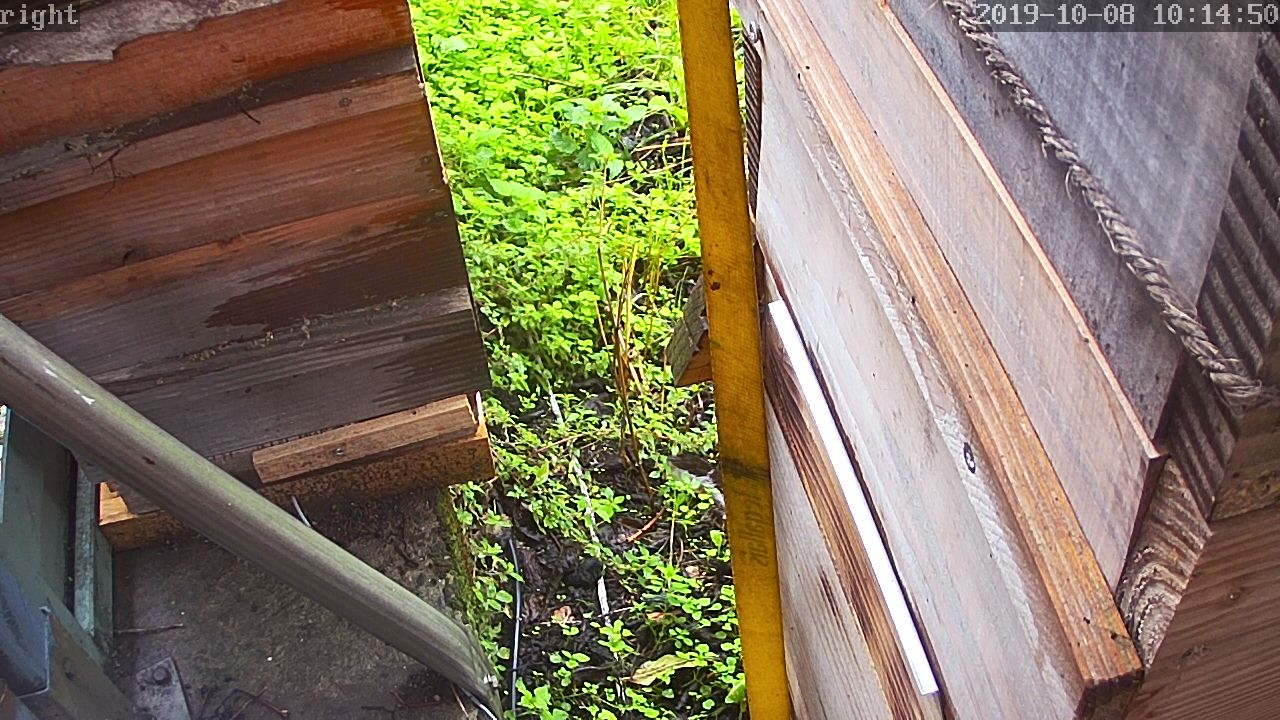hornet: (532, 548, 595, 606), (708, 531, 737, 595)
